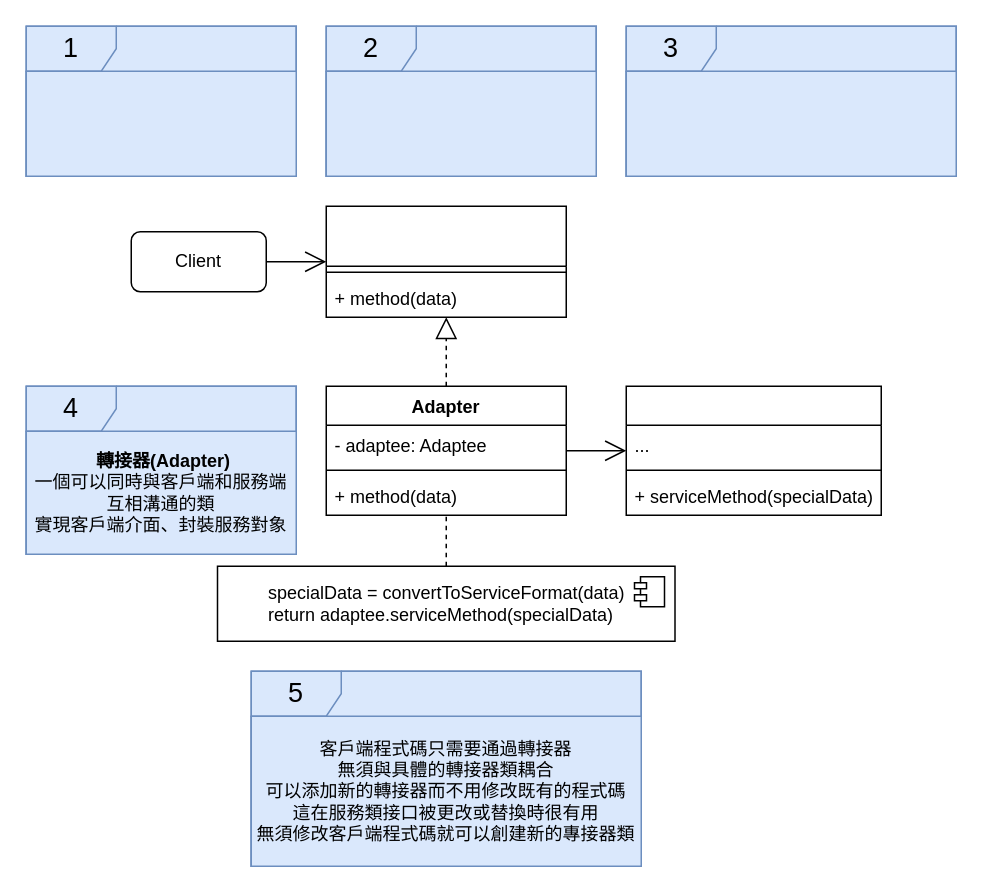
Some shapes in this 983 by 893 pixel diagram are drawn without their labels. The shapes that lost their labels are listed below. From the top down, each one's box as (x1, y1, x2, y2) in pixels, then its label:
(25, 70, 296, 176): 客戶端(Client) 包含當前程式碼與業務邏輯的類
(325, 70, 596, 176): 客戶端介面 (Target) (Client Interface) 描述其他類與客戶端合作時必須遵守的協議
(625, 70, 956, 176): 服務 (Adaptee) (Service) 一些功能類(通常來自第三方或遺留系統) 與客戶端不兼容 因此無法直接使用
(325, 205, 566, 317): <<interface>> Target (Client Interface)
(625, 385, 881, 515): Adaptee (Service)
